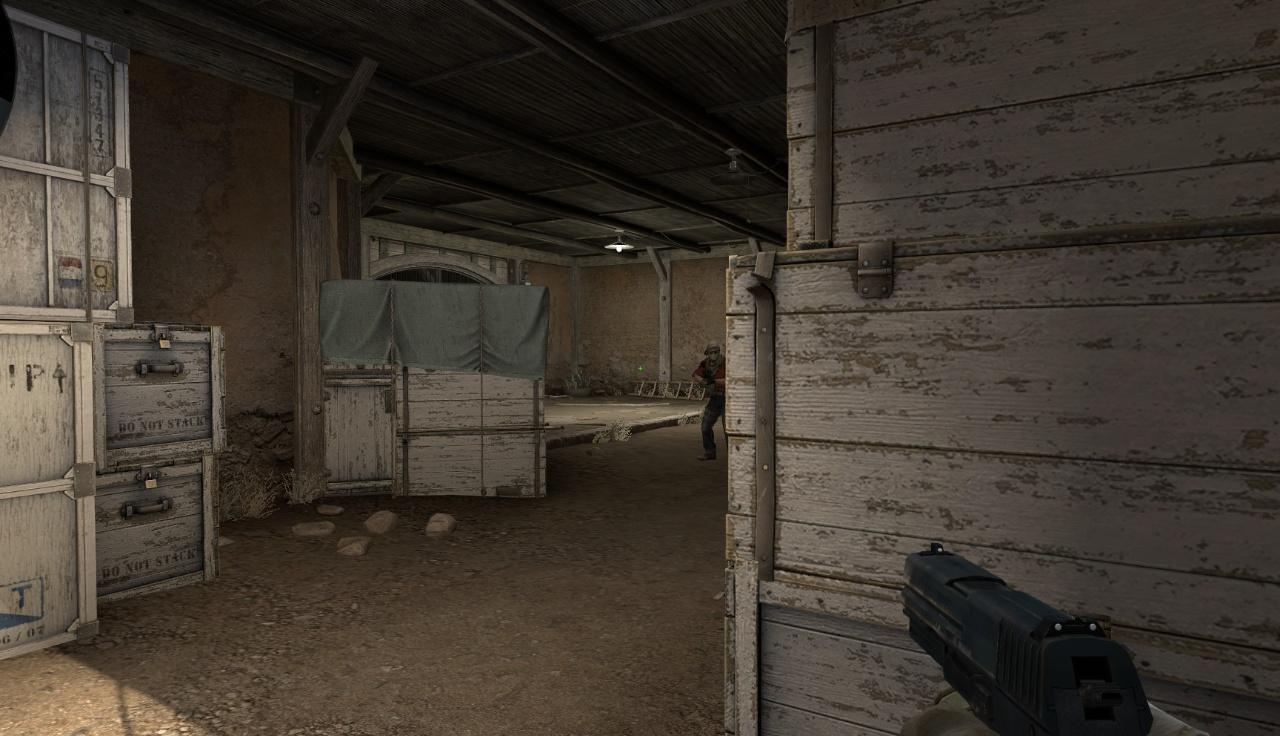pistol: (901, 545, 1169, 736)
tt: (696, 343, 725, 459)
tthead: (707, 343, 720, 362)
